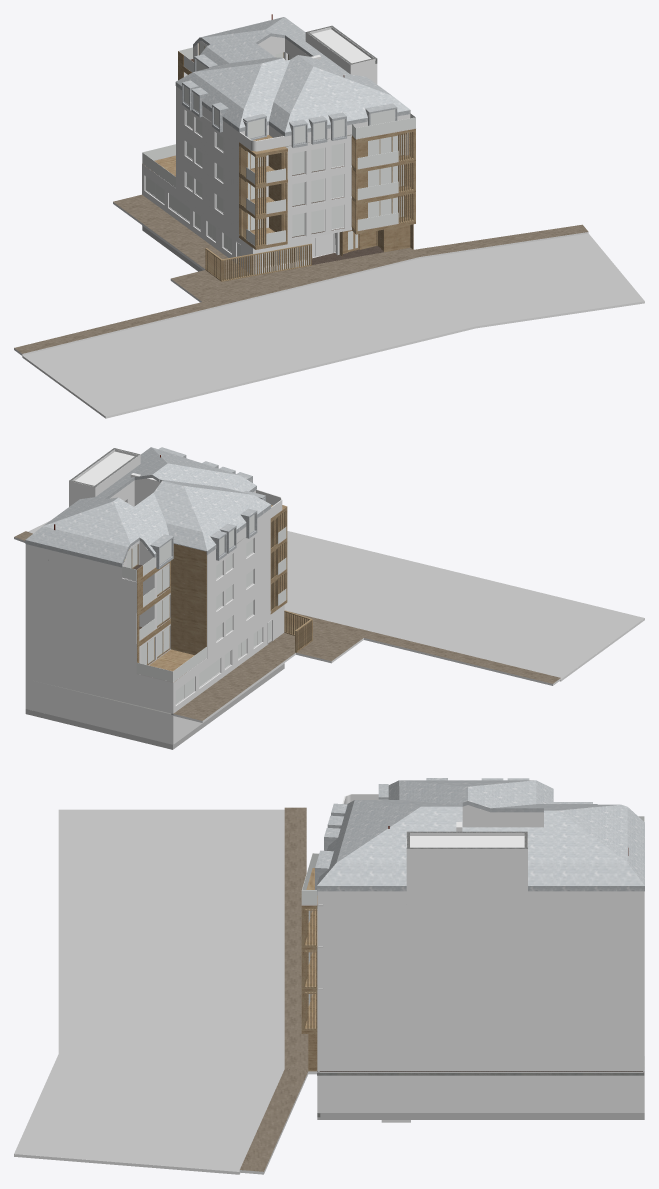
Rendered from aixovall.glb.
3 renders of one model, top to bottom at view 1: azimuth 30°, elevation 25°; view 2: azimuth 150°, elevation 25°; view 3: azimuth 270°, elevation 25°, orthographic. The views are drawn at different scales.
Visible parts, largest first — view 1: PT-Pintura- Gris Claro, PT-Pintura- Blanco Satinado, MT-Metal - Zinc, VD-Vidrio - Claro Rápido, MD-Madera - Pino Granulado Horizontal, PM-Parquet - Roble Claro, CT-Baldosas - Marrón Claro 15x15; view 2: PT-Pintura- Blanco Satinado, PT-Pintura- Gris Claro, MT-Metal - Zinc, MD-Madera - Pino Granulado Horizontal, PM-Parquet - Roble Claro, VD-Vidrio - Claro Rápido; view 3: PT-Pintura- Gris Claro, PT-Pintura- Blanco Satinado, MT-Metal - Zinc, PM-Parquet - Roble Claro, MD-Madera - Pino Granulado Horizontal, HM-Hormigón - 02, VD-Vidrio - Claro Rápido, Hormigón - 10 (1).
Part boxes in pixels (x1,y1,x2,y2): PT-Pintura- Gris Claro: (22,226,644,416); PT-Pintura- Blanco Satinado: (14,27,644,418); MT-Metal - Zinc: (175,17,410,147); VD-Vidrio - Claro Rápido: (142,42,415,265); MD-Madera - Pino Granulado Horizontal: (144,43,415,281); PM-Parquet - Roble Claro: (14,194,588,353); CT-Baldosas - Marrón Claro 15x15: (190,59,383,264); PT-Pintura- Blanco Satinado: (14,449,644,744); PT-Pintura- Gris Claro: (25,521,644,749); MT-Metal - Zinc: (25,447,271,569); MD-Madera - Pino Granulado Horizontal: (128,505,312,681); PM-Parquet - Roble Claro: (14,531,560,720); VD-Vidrio - Claro Rápido: (122,514,286,703); PT-Pintura- Gris Claro: (14,809,644,1171); PT-Pintura- Blanco Satinado: (14,794,644,1174); MT-Metal - Zinc: (315,778,644,895); PM-Parquet - Roble Claro: (240,807,308,1171); MD-Madera - Pino Granulado Horizontal: (301,868,317,1071); HM-Hormigón - 02: (317,1056,644,1117); VD-Vidrio - Claro Rápido: (301,816,644,1005); Hormigón - 10 (1): (406,831,527,848).
Size of the model in its own units: 56.24 by 20.07 by 41.18.
43 materials, 22 textured.
